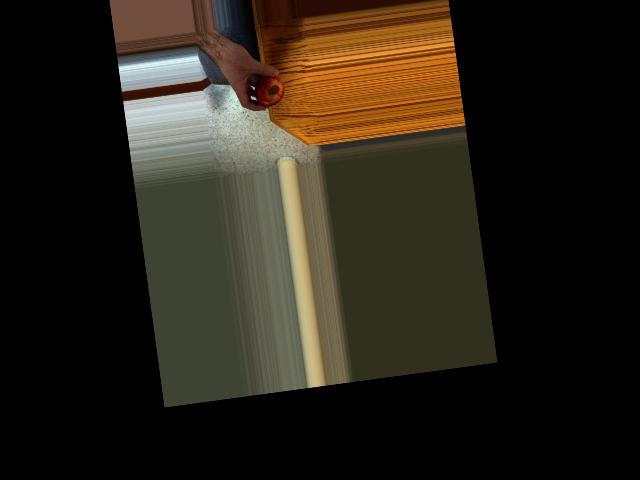apple: (251, 69, 286, 109)
